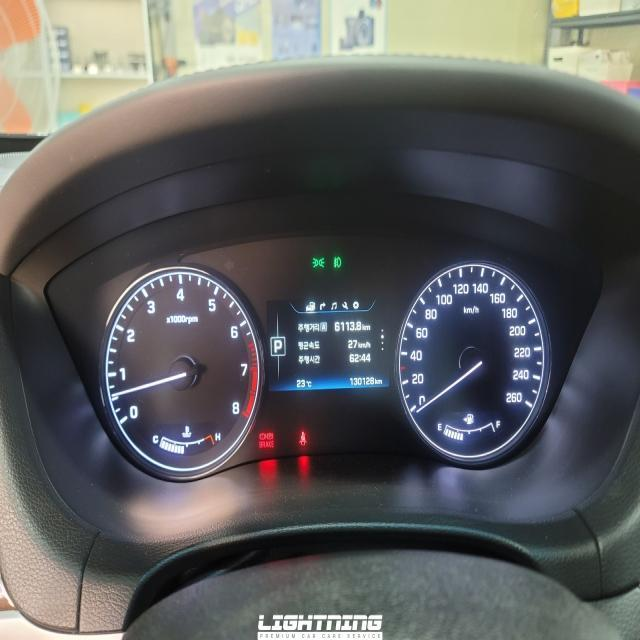FrontFogLight: (333, 254, 341, 268)
SideLamp: (312, 256, 324, 268)
